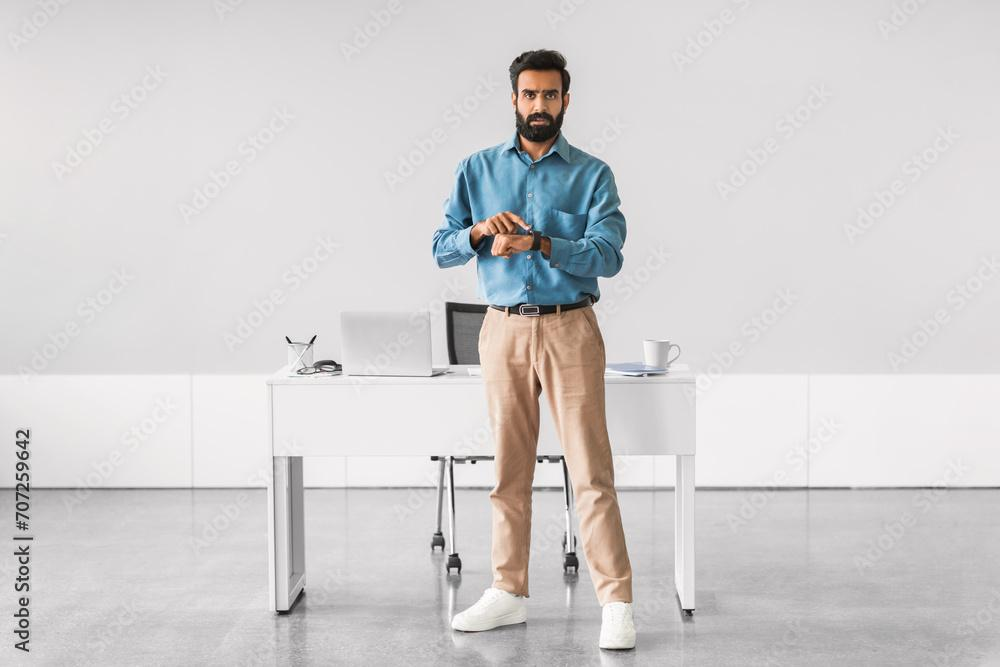Human: (371, 41, 712, 667)
